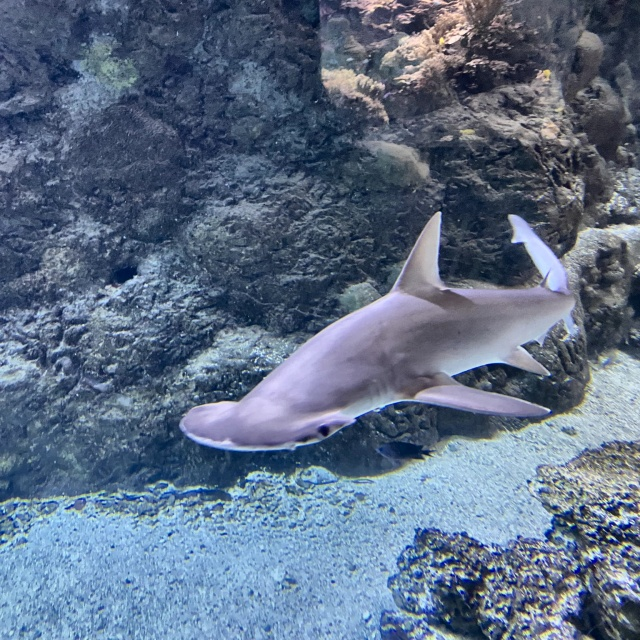shark: (179, 211, 576, 464)
